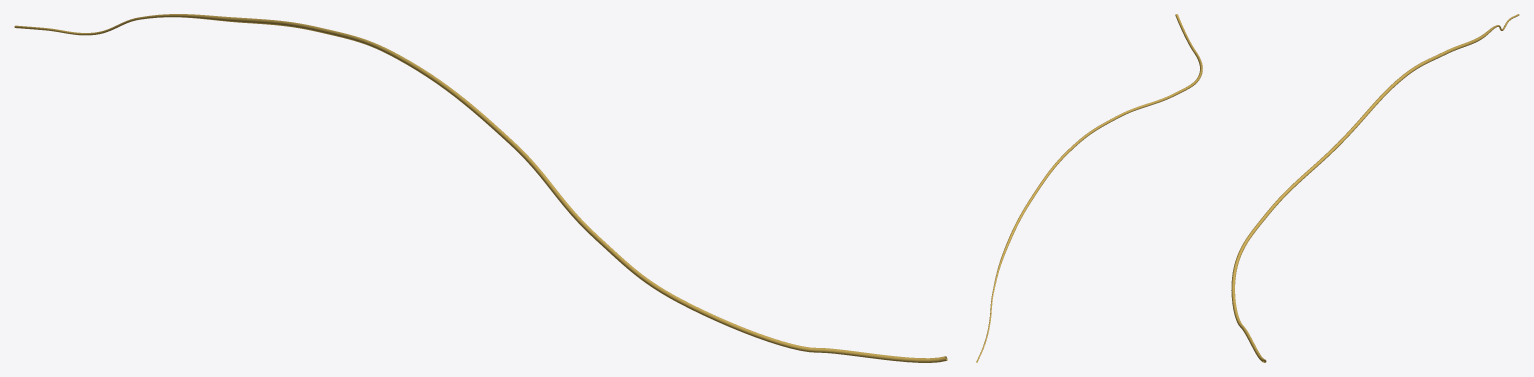
The picture shows the model from 3 angles, left to right: view 1: azimuth 30°, elevation 25°; view 2: azimuth 150°, elevation 25°; view 3: azimuth 330°, elevation 25°; orthographic projection. The views are drawn at different scales.
Parts seen in each view (by area): view 1: 右侧尺神经; view 2: 右侧尺神经; view 3: 右侧尺神经.
Boxes of the visible parts, bbox=[...] form: 右侧尺神经: bbox=[14, 14, 947, 362]; 右侧尺神经: bbox=[976, 14, 1202, 362]; 右侧尺神经: bbox=[1231, 14, 1519, 362].
Bounding box in the file's own units: 0.202 × 0.0945 × 0.7616.
